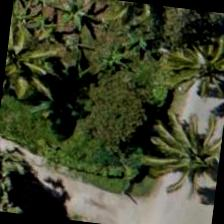Kelapa_Sawit: (112, 96, 212, 196), (143, 4, 223, 103), (1, 6, 68, 102), (70, 0, 166, 52)
